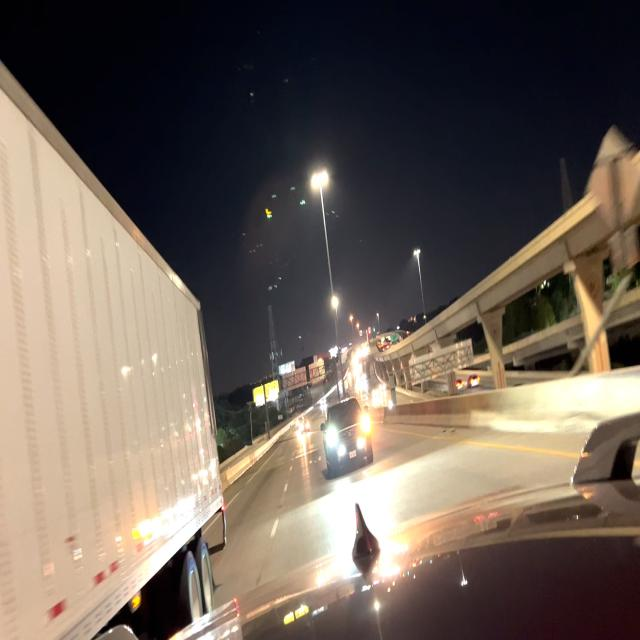back-of-sign: (408, 337, 475, 385), (282, 358, 327, 396)
